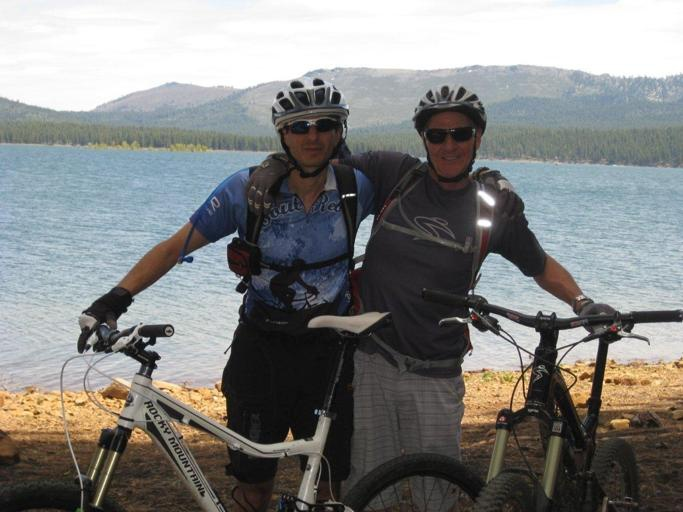non-vehicle: (2, 306, 492, 512), (335, 285, 683, 511)
